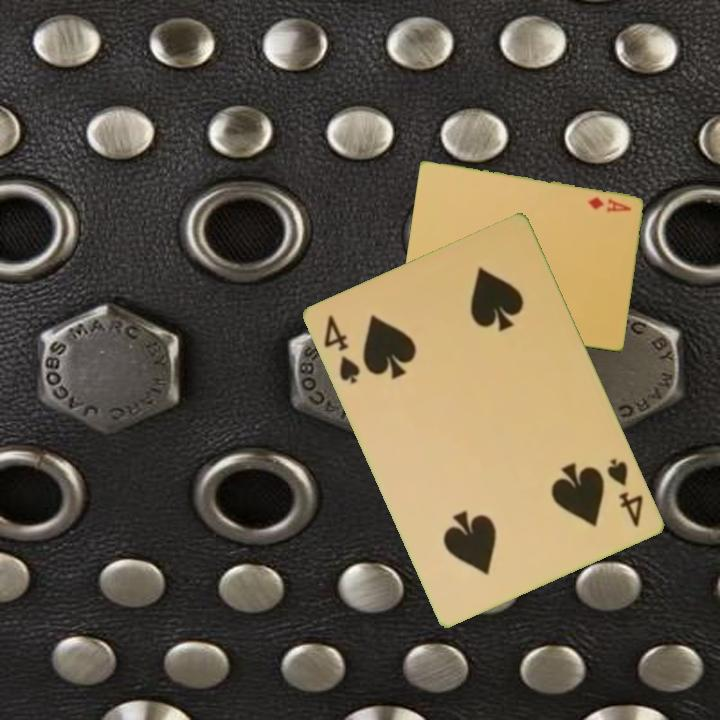4s: (320, 311, 364, 387), (604, 455, 647, 531)
Ad: (584, 194, 634, 215)
